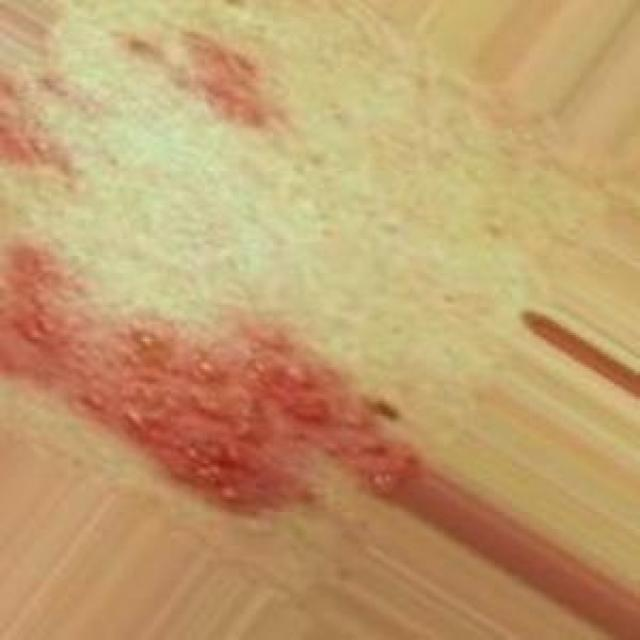Shingles: (0, 232, 416, 515), (127, 24, 279, 132)
